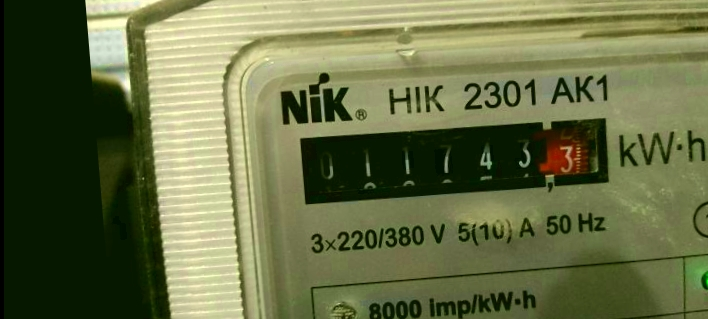0: (315, 146, 337, 184)
1: (398, 141, 415, 176), (361, 144, 373, 178)
3: (511, 134, 533, 171), (556, 143, 577, 177)
4: (475, 137, 494, 173)
7: (436, 139, 456, 175)
screen: (284, 100, 625, 221)
